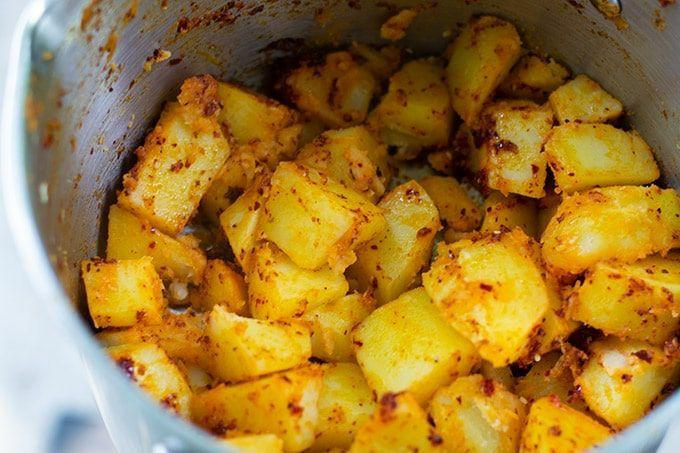AlooMasala: (82, 10, 680, 453)
